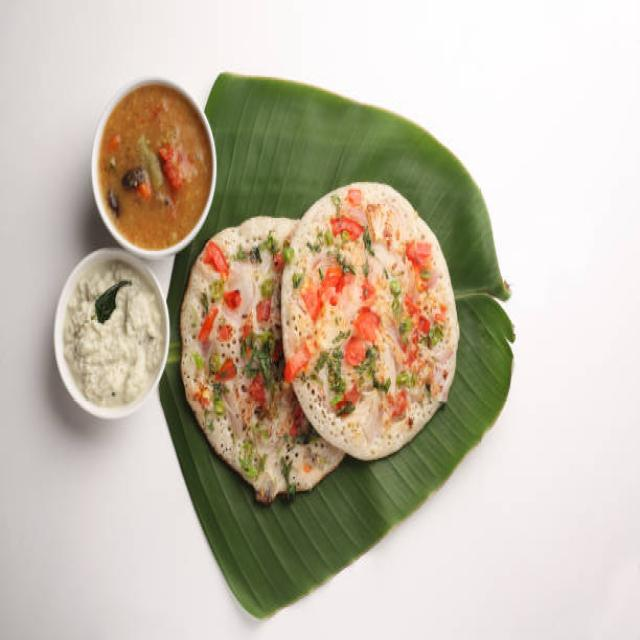DOSA: (176, 181, 459, 496)
SAMBAR: (98, 85, 211, 249)
WHITE CHUTNEY: (62, 262, 167, 406)
